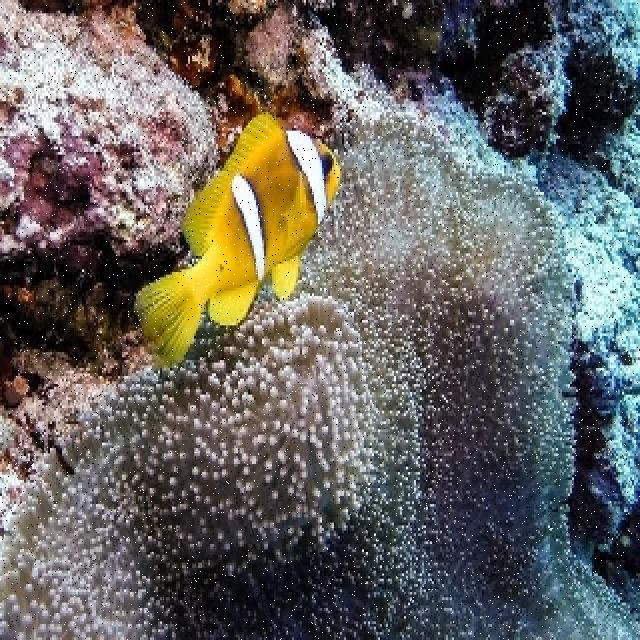fish: (133, 114, 343, 367)
reefs: (0, 115, 638, 637), (0, 0, 220, 256)
